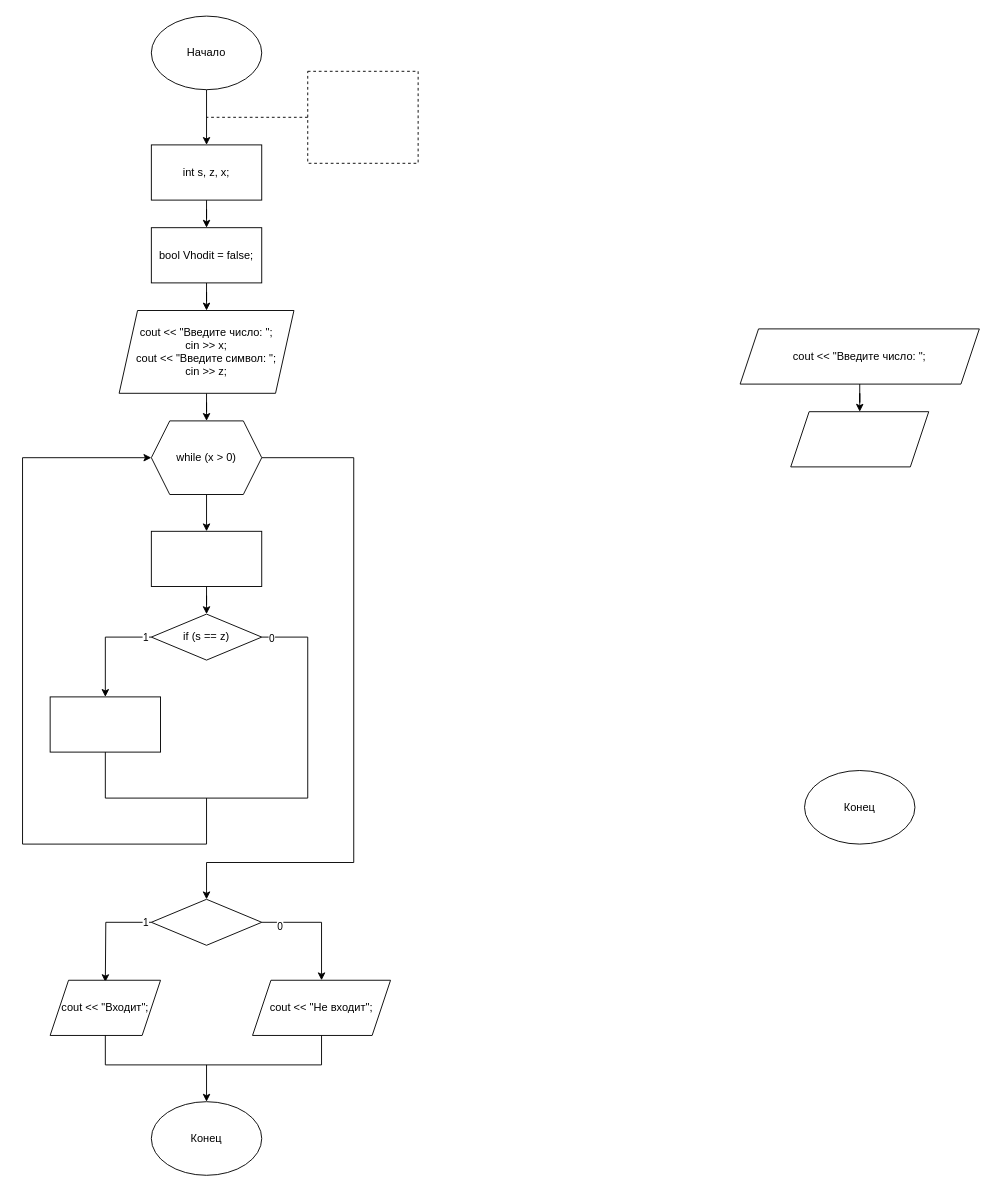
Image size: 995x1191. Some labels were removed from this diagram. Here are the shapes that lost their labels. From the top down, the box of each, then its label:
(307, 70, 418, 163): #include<iostream> using namespace std; int main(){ setlocale(LC_ALL, "RUS");}
(790, 411, 929, 467): cin >> x;
(150, 530, 262, 586): s = x % 10; x = x / 10;
(49, 696, 161, 752): Vhodit = true; break;
(150, 898, 262, 945): if (Vhodit)
